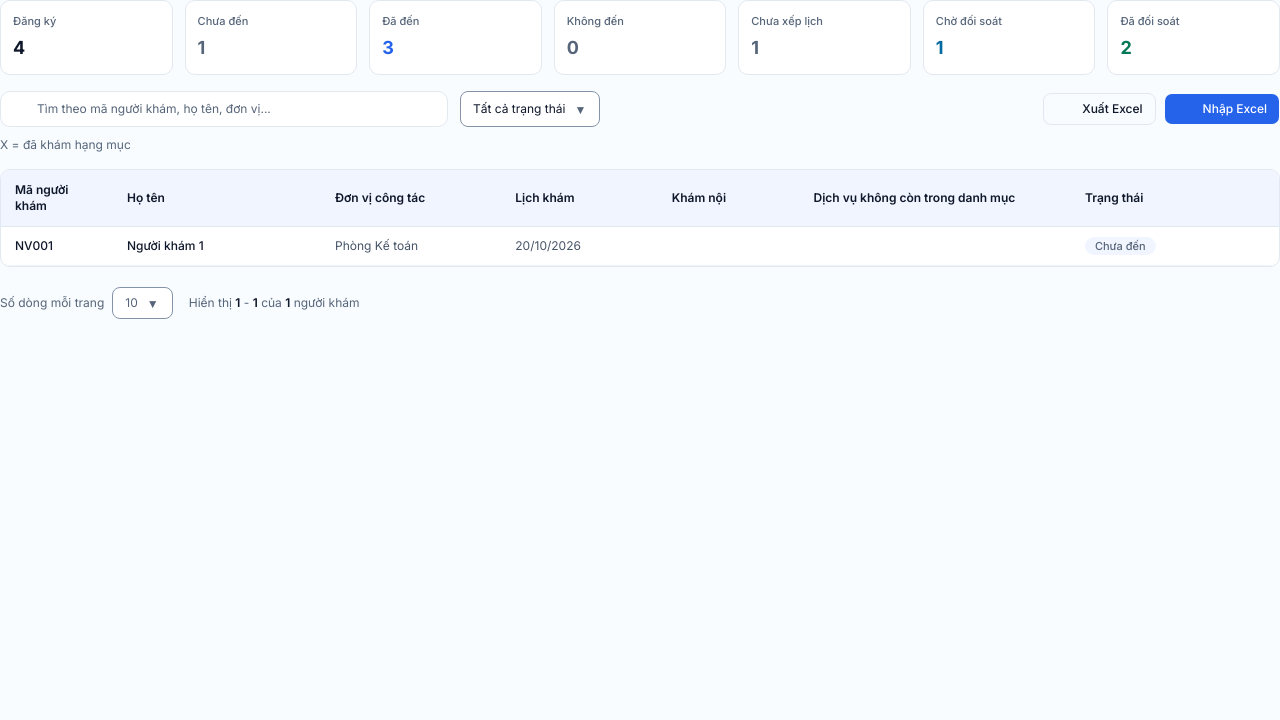
Test case: ExaminationDetailTab › tells the user with a toast that the export finished
Expected: the text "Người khám 1" is shown, x1=113 y1=226 x2=321 y2=266
Click the button "Xuất Excel".
click(1099, 108)  # box x1=1043 y1=92 x2=1156 y2=124
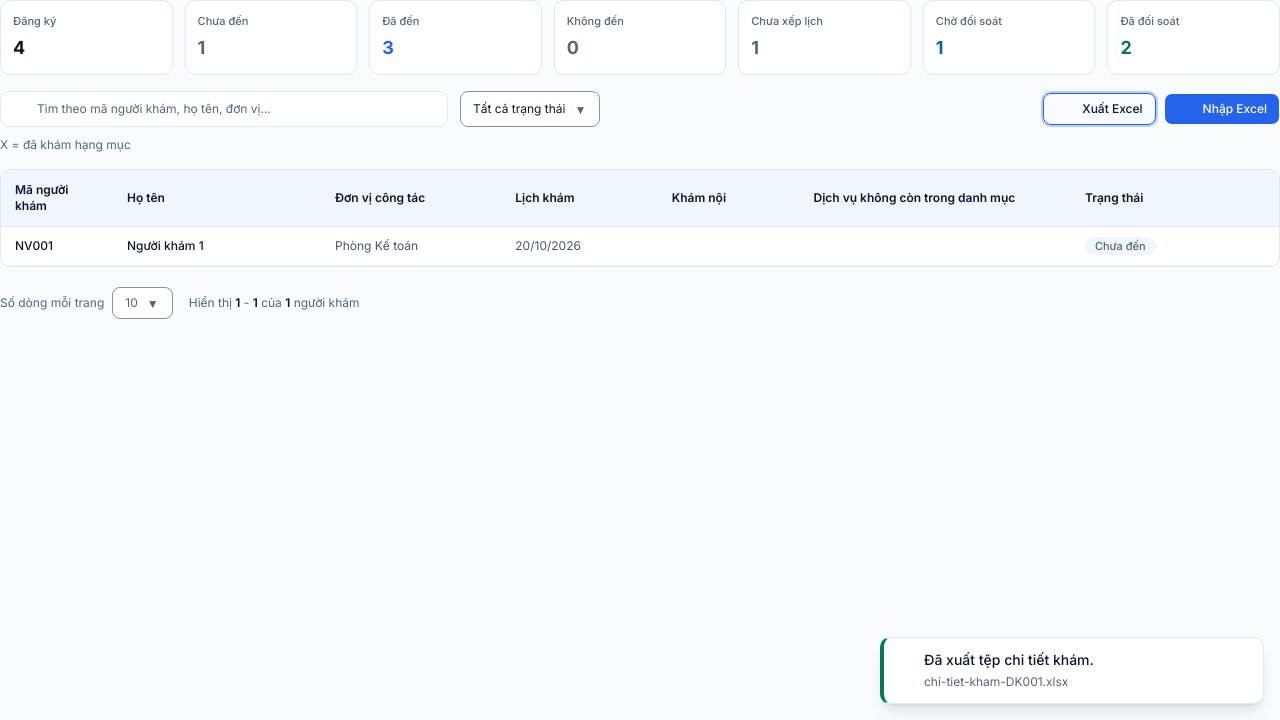
Expected: the heading "Đã xuất tệp chi tiết khám." is shown, x1=924 y1=651 x2=1094 y2=668
